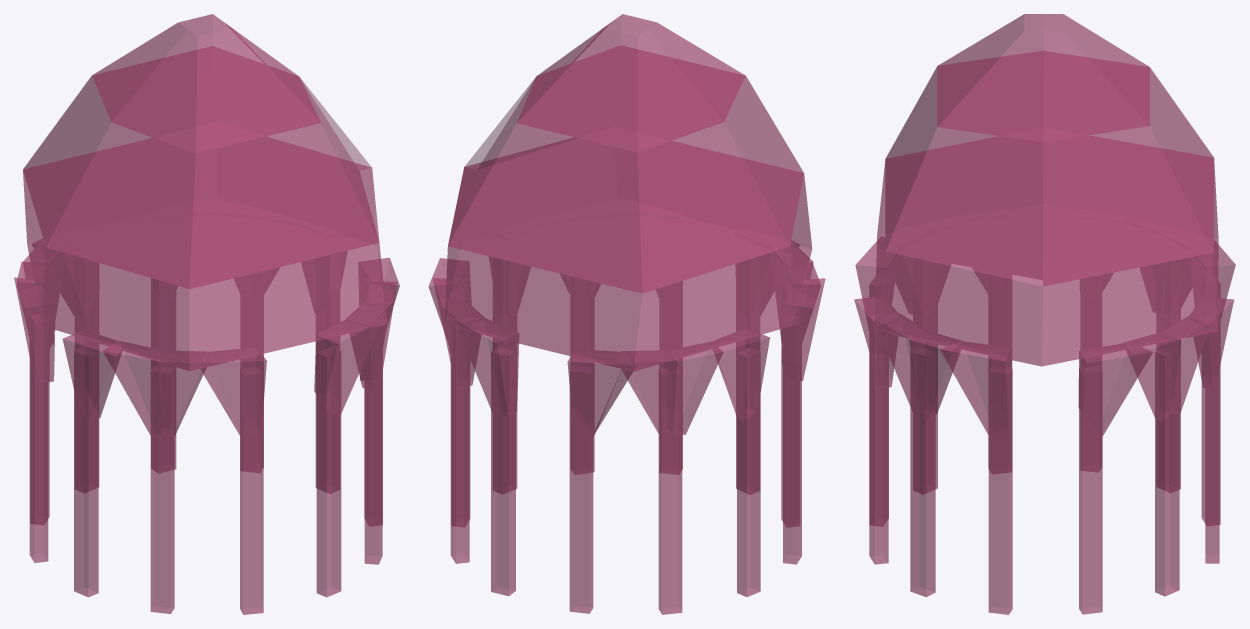
File: SM_Bld_Gazebo_02_Collision.fbx
3 views of the same model, side by side, from view 1: azimuth 30°, elevation 25°; view 2: azimuth 150°, elevation 25°; view 3: azimuth 270°, elevation 25° (orthographic).
Parts seen in each view (by area): view 1: SM_Bld_Gazebo_02_Collision; view 2: SM_Bld_Gazebo_02_Collision; view 3: SM_Bld_Gazebo_02_Collision.
Part boxes in pixels (x1=…): SM_Bld_Gazebo_02_Collision: x1=14, y1=14, x2=399, y2=614; SM_Bld_Gazebo_02_Collision: x1=428, y1=14, x2=825, y2=614; SM_Bld_Gazebo_02_Collision: x1=854, y1=14, x2=1235, y2=614.
Bounding box in the file's own units: 618 × 914 × 612.
